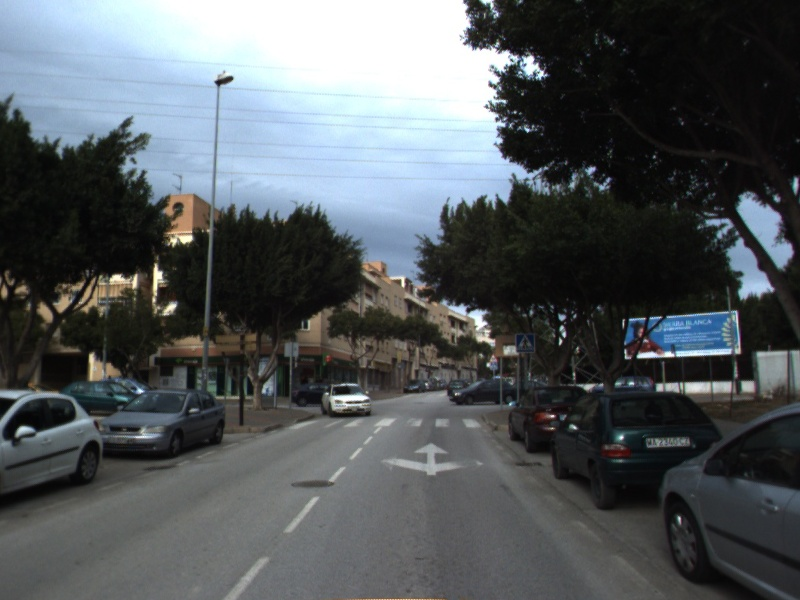STRAIGHT_LEFT_RIGHT: (378, 440, 485, 478)
